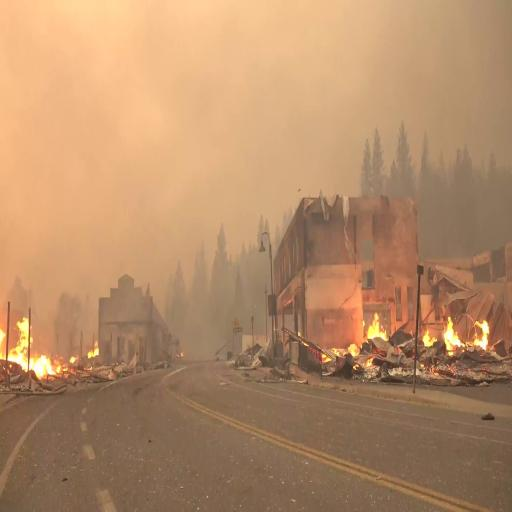fire: (12, 314, 52, 375), (442, 316, 490, 354)
